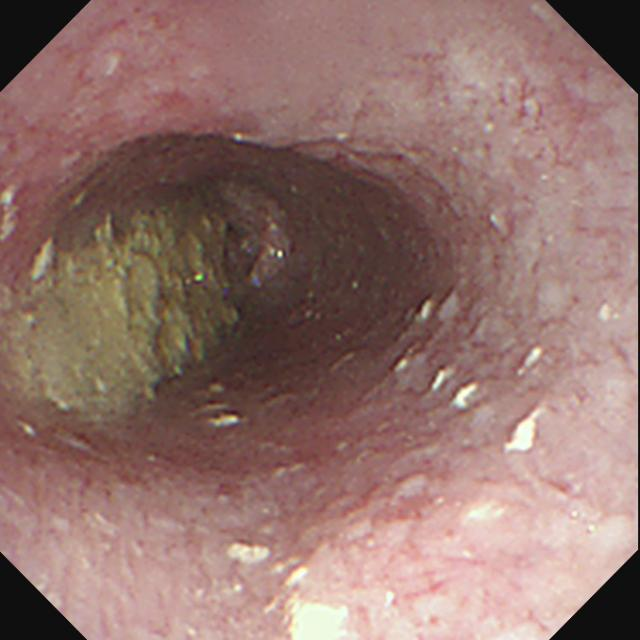B: (7, 197, 241, 416)
J: (393, 348, 548, 456), (231, 541, 309, 593), (284, 601, 353, 640)
